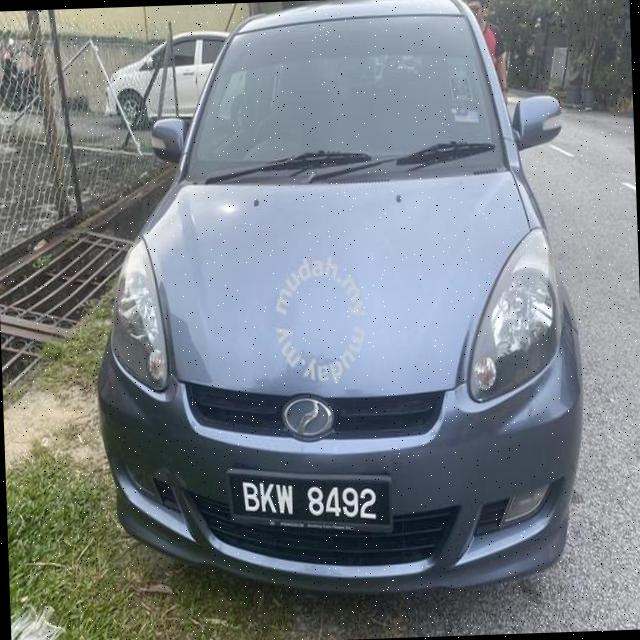License_Plate: (226, 461, 404, 541)
car: (78, 1, 607, 610)
